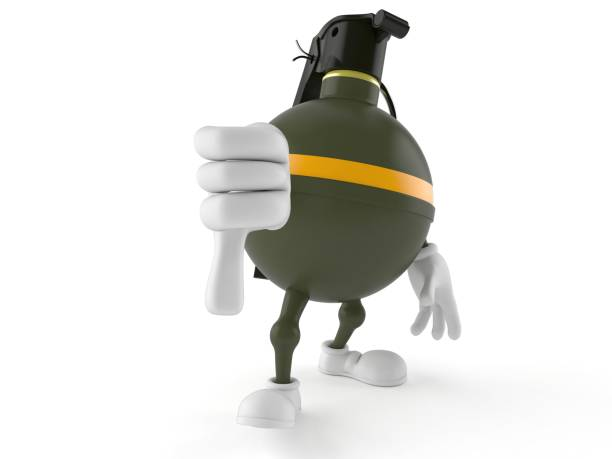e1: (249, 6, 437, 300)
